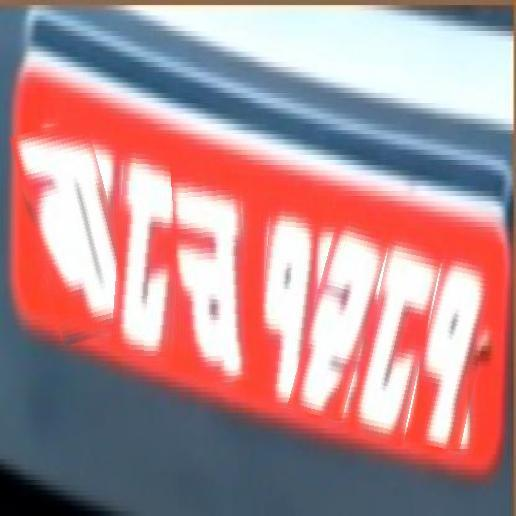1: (415, 235, 493, 451), (259, 200, 315, 409)
2: (300, 215, 381, 420)
8: (360, 226, 436, 446), (113, 149, 180, 357)
ba: (23, 121, 128, 343)
cha: (174, 159, 249, 383)
